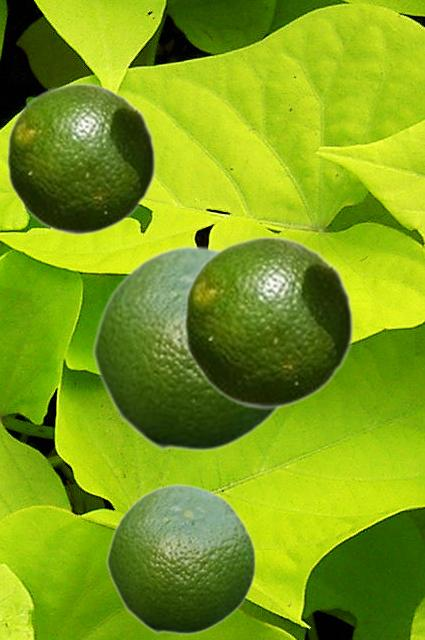calamansi: (91, 243, 282, 451), (182, 235, 354, 408), (105, 482, 256, 634), (5, 82, 156, 234)
